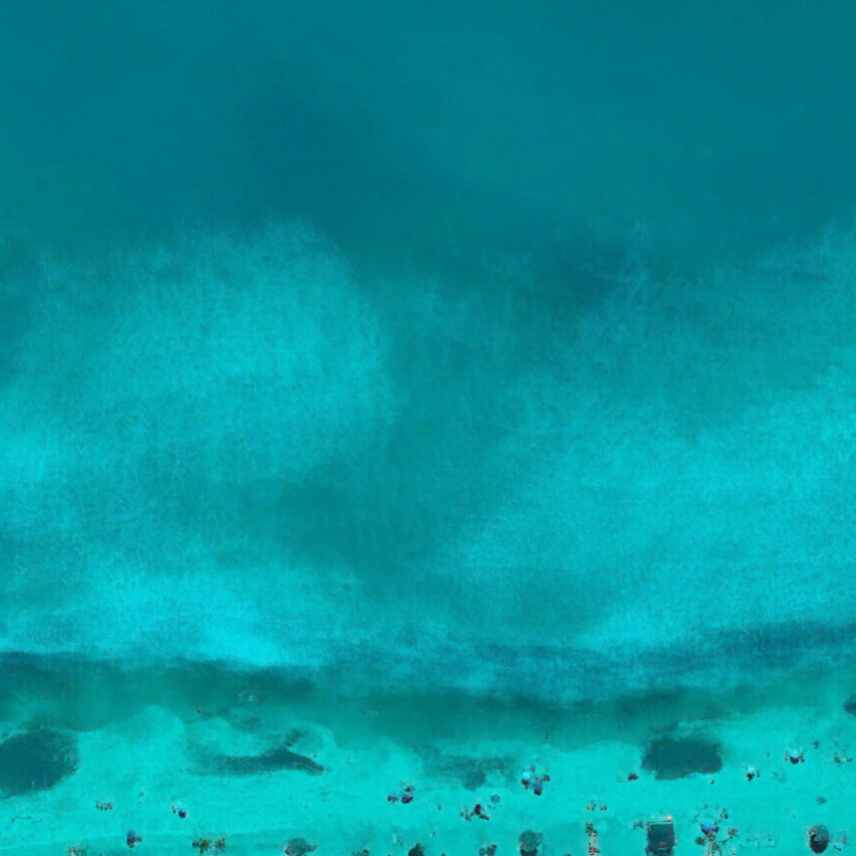rip_current: (263, 110, 583, 626)
